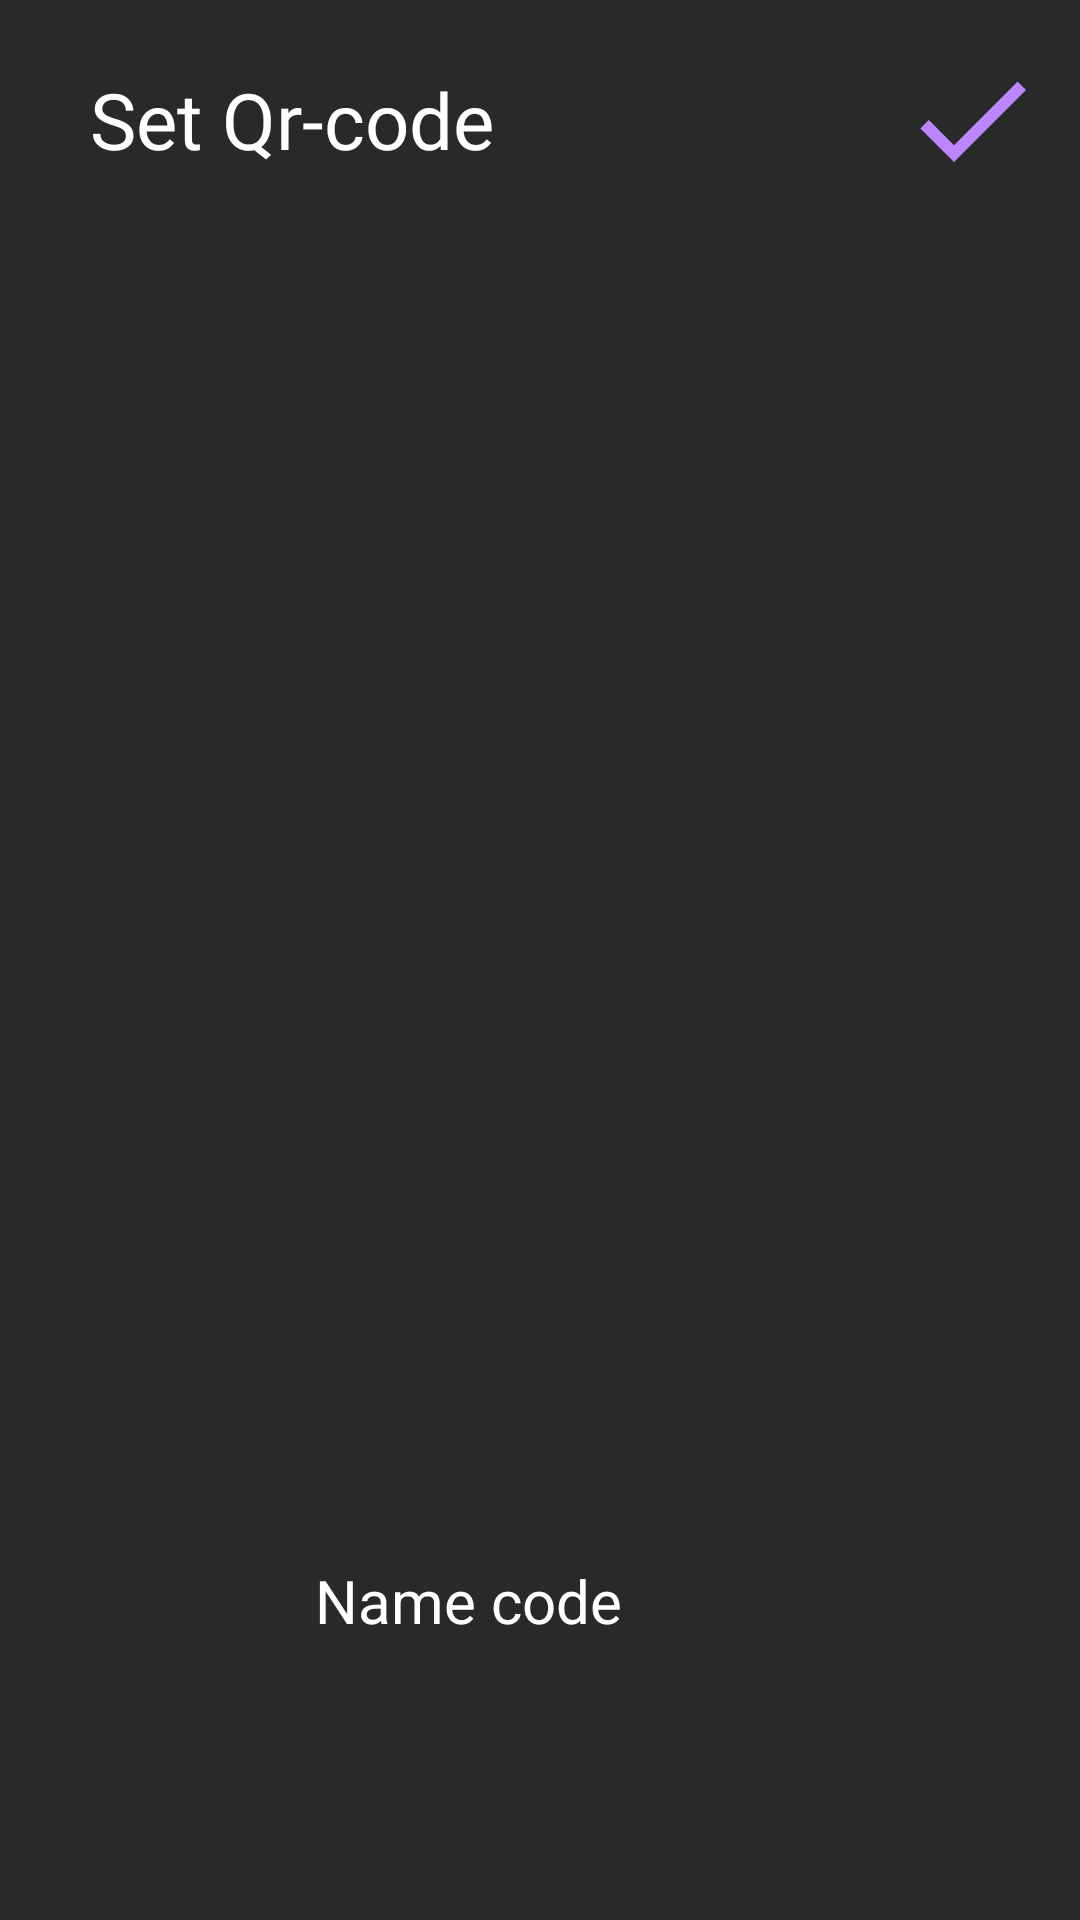

Locate icon controls on the screen. Image size 1080px×1920px, boxes as (x1, y1, x2, y2).
done: (920, 81, 1026, 162)
